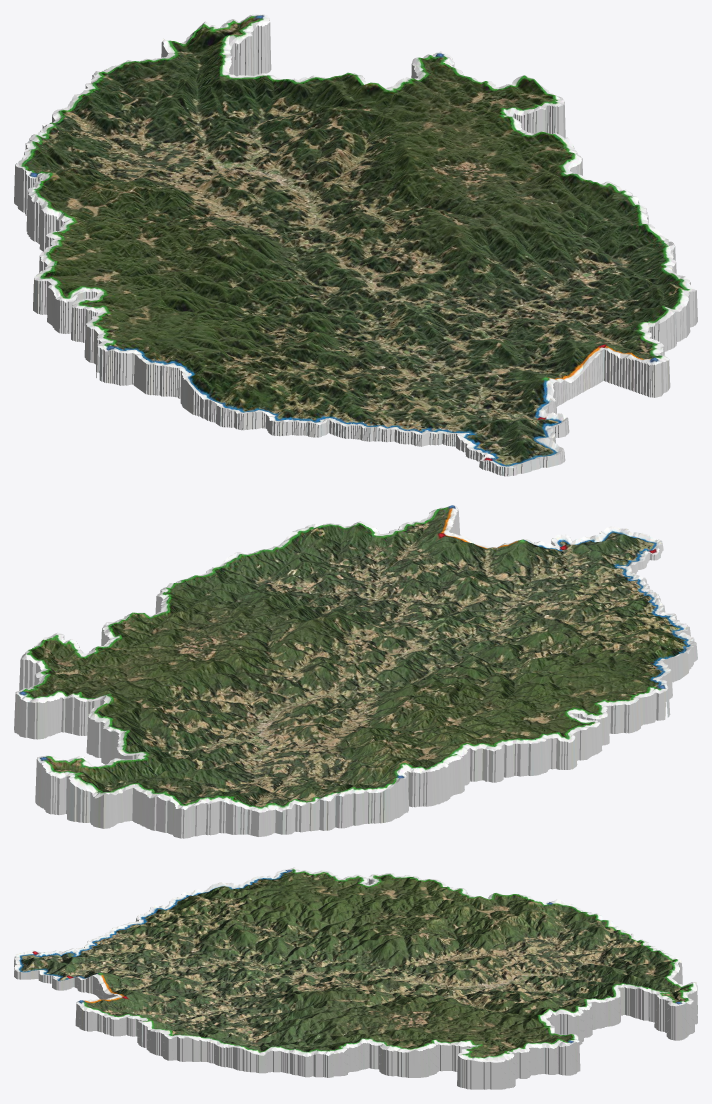
The picture shows the model from 3 angles, top to bottom: view 1: azimuth 30°, elevation 25°; view 2: azimuth 150°, elevation 25°; view 3: azimuth 270°, elevation 25°; orthographic projection. The views are drawn at different scales.
Size of the model in its own units: 1 by 0.0824 by 1.44.
1 material, 1 textured.
